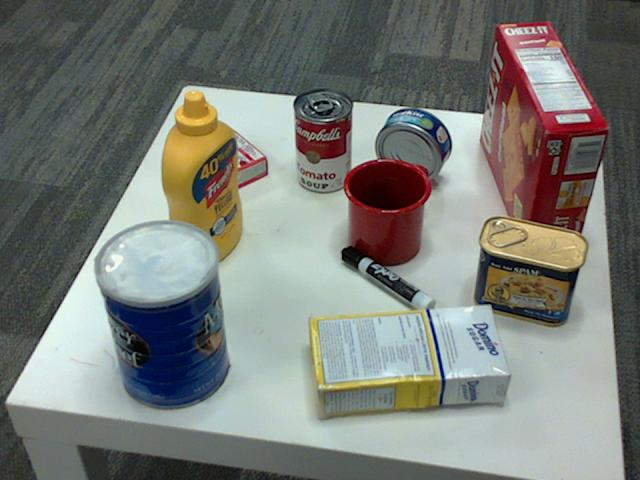cracker_box: (479, 19, 609, 252)
gelatin_box: (172, 126, 268, 199)
large_marker: (341, 247, 435, 319)
master_chef_can: (90, 221, 227, 412)
mug: (340, 156, 430, 263)
mustard_bottle: (159, 90, 242, 270)
potted_meat_can: (471, 216, 587, 326)
sugar_box: (305, 303, 508, 415)
tomato_soup_can: (292, 88, 352, 193)
tuna_fish_can: (373, 107, 450, 182)
